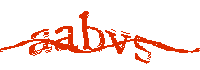a: (29, 25, 52, 56), (53, 23, 76, 54)
b: (78, 10, 107, 57)
s: (134, 33, 153, 65)
v: (106, 27, 132, 56)
